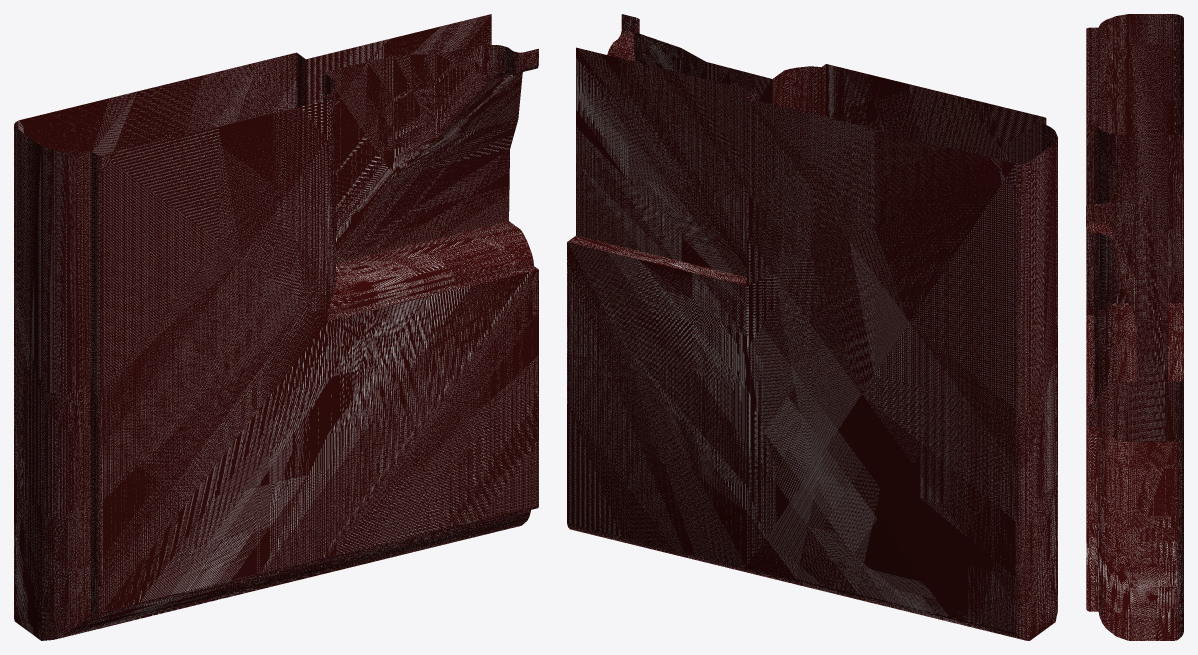
File: original-42.obj
The picture shows the model from 3 angles, left to right: view 1: azimuth 30°, elevation 25°; view 2: azimuth 150°, elevation 25°; view 3: azimuth 270°, elevation 25°; orthographic projection. The views are drawn at different scales.
Parts seen in each view (by area): view 1: RB_11_BL1/RB_11_BL/mesh29/mesh29-geometry#mesh29-geometry; view 2: RB_11_BL1/RB_11_BL/mesh29/mesh29-geometry#mesh29-geometry; view 3: RB_11_BL1/RB_11_BL/mesh29/mesh29-geometry#mesh29-geometry.
Boxes of the visible parts, x1,y1,x2,y2 form: RB_11_BL1/RB_11_BL/mesh29/mesh29-geometry#mesh29-geometry: (14, 14, 538, 640); RB_11_BL1/RB_11_BL/mesh29/mesh29-geometry#mesh29-geometry: (567, 14, 1057, 640); RB_11_BL1/RB_11_BL/mesh29/mesh29-geometry#mesh29-geometry: (1086, 14, 1183, 640).
Bounding box in the file's own units: 0.1899 × 0.19 × 0.0393.
